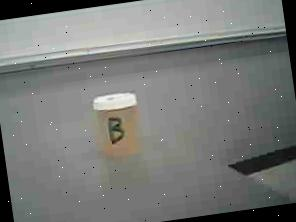Bottle B: (90, 85, 154, 167)
